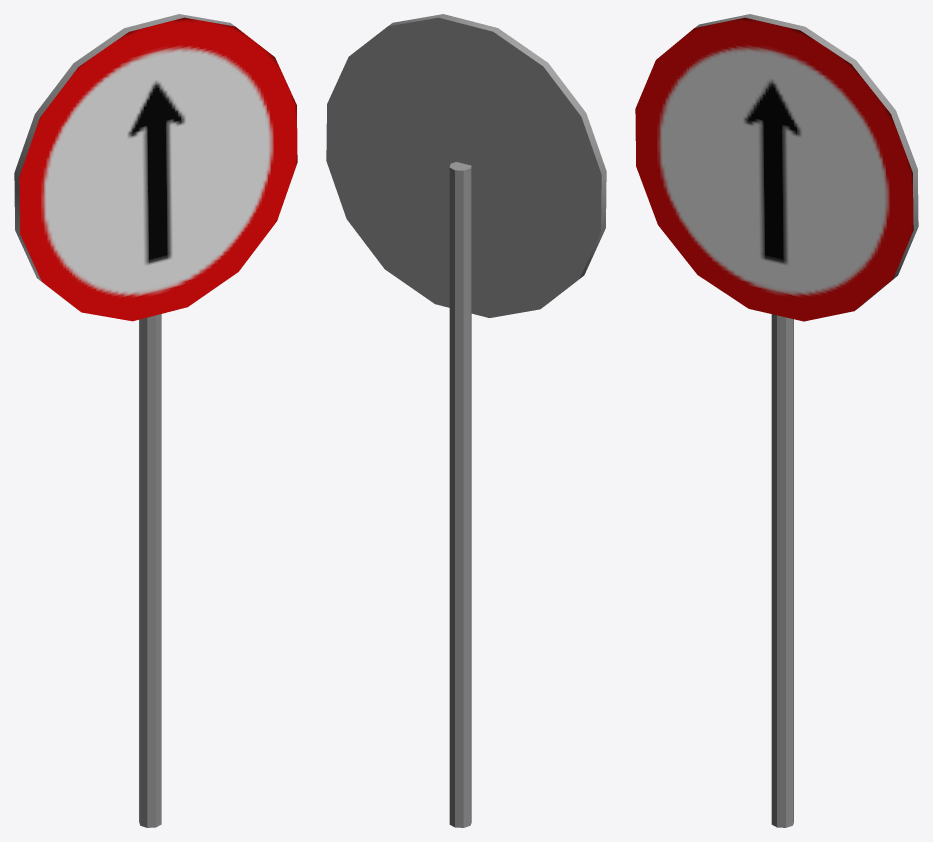
The model's file is PlacaReta.fbx.
The picture shows the model from 3 angles, left to right: view 1: azimuth 30°, elevation 25°; view 2: azimuth 150°, elevation 25°; view 3: azimuth 330°, elevation 25°; orthographic projection.
Visible parts, largest first — view 1: PlacaReta; view 2: PlacaReta; view 3: PlacaReta.
Boxes of the visible parts, box(x1,y1,x2,y2) form: PlacaReta: box(14, 14, 297, 827); PlacaReta: box(326, 14, 606, 827); PlacaReta: box(635, 14, 918, 827).
Bounding box in the file's own units: 97.94 × 271 × 8.6.
